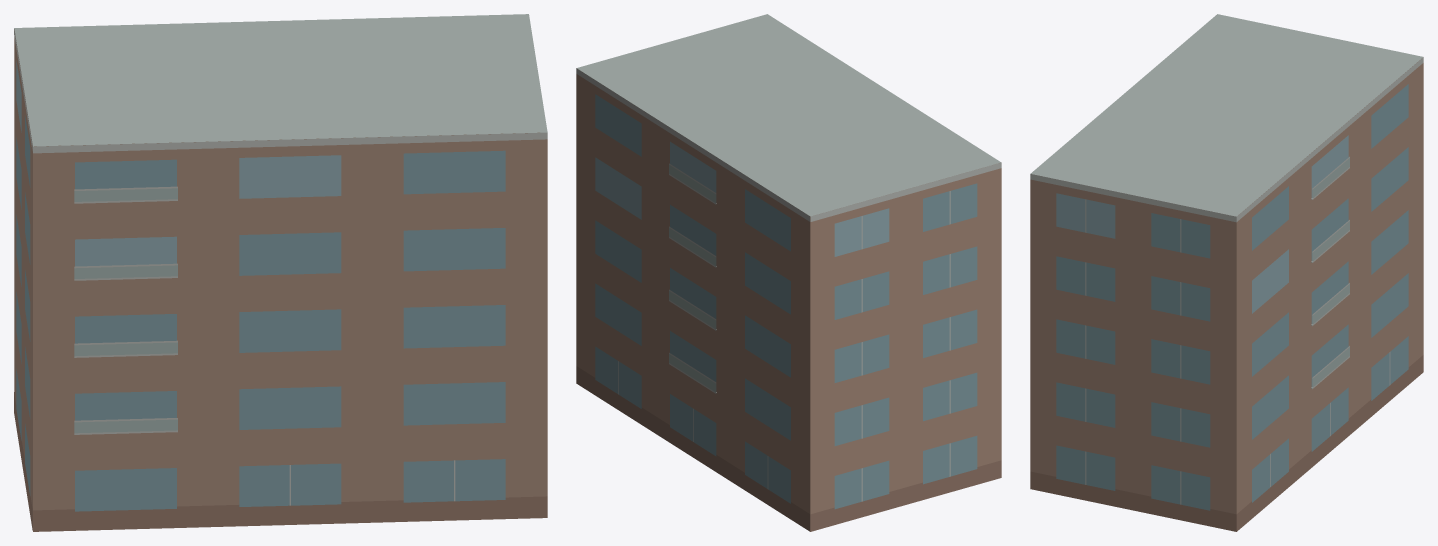
Rendered from survey-upis-33039513.glb.
3 renders of one model, left to right at view 1: azimuth 30°, elevation 25°; view 2: azimuth 150°, elevation 25°; view 3: azimuth 270°, elevation 25°, orthographic. The views are drawn at different scales.
Visible parts, largest first — view 1: survey-upis-33039513.tmp; view 2: survey-upis-33039513.tmp; view 3: survey-upis-33039513.tmp.
Part boxes in pixels (left/top/right/bottom): survey-upis-33039513.tmp: left=14, top=14, right=547, bottom=531; survey-upis-33039513.tmp: left=576, top=14, right=1001, bottom=531; survey-upis-33039513.tmp: left=1030, top=14, right=1423, bottom=531.
Size of the model in its own units: 18.75 by 13.59 by 15.38.
